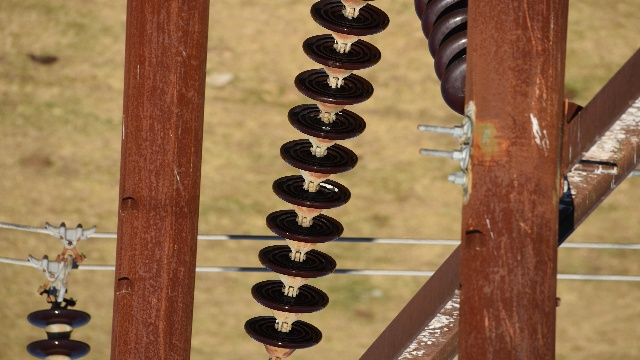insulator_unspecified: (245, 0, 391, 349), (414, 0, 484, 112), (25, 308, 93, 356)
